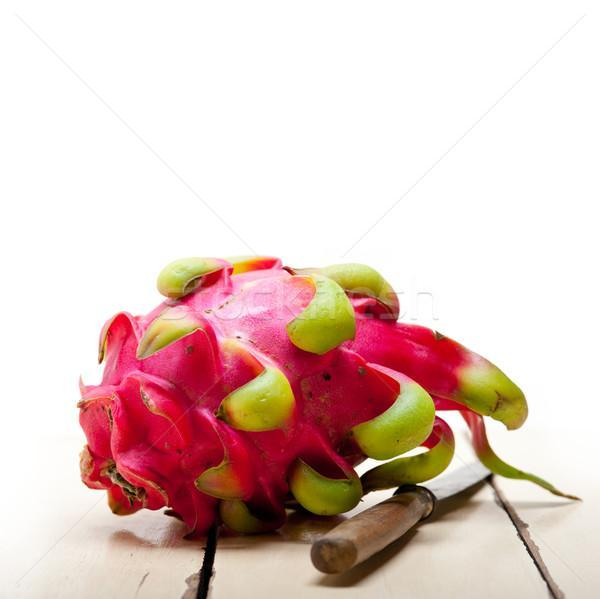dragon-fruit: (73, 251, 420, 533)
